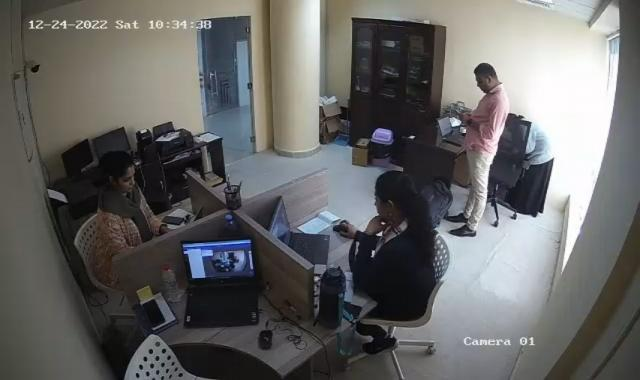no_hairnet: (376, 170, 416, 222), (105, 156, 136, 194), (470, 62, 496, 93)
